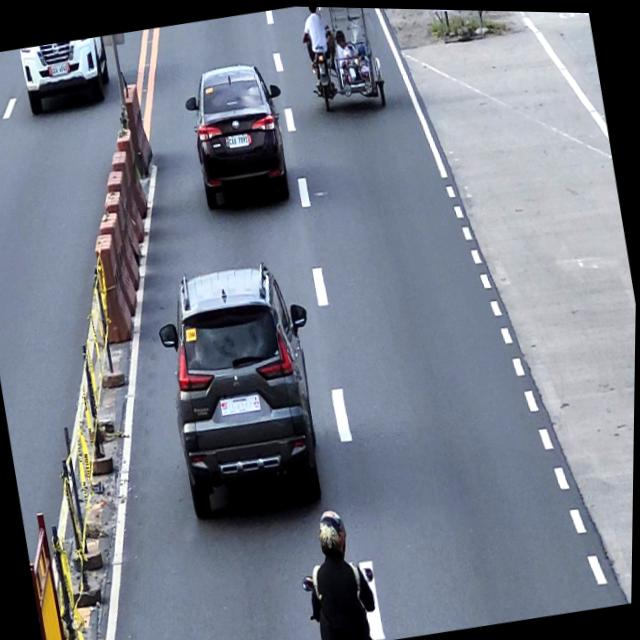Car: (147, 251, 340, 522), (178, 54, 299, 212), (18, 33, 116, 119)
License-Plate: (219, 389, 263, 416), (226, 129, 251, 148), (46, 62, 71, 76)
Motorcycle: (300, 559, 388, 640)
Tricycle: (296, 5, 389, 116)
